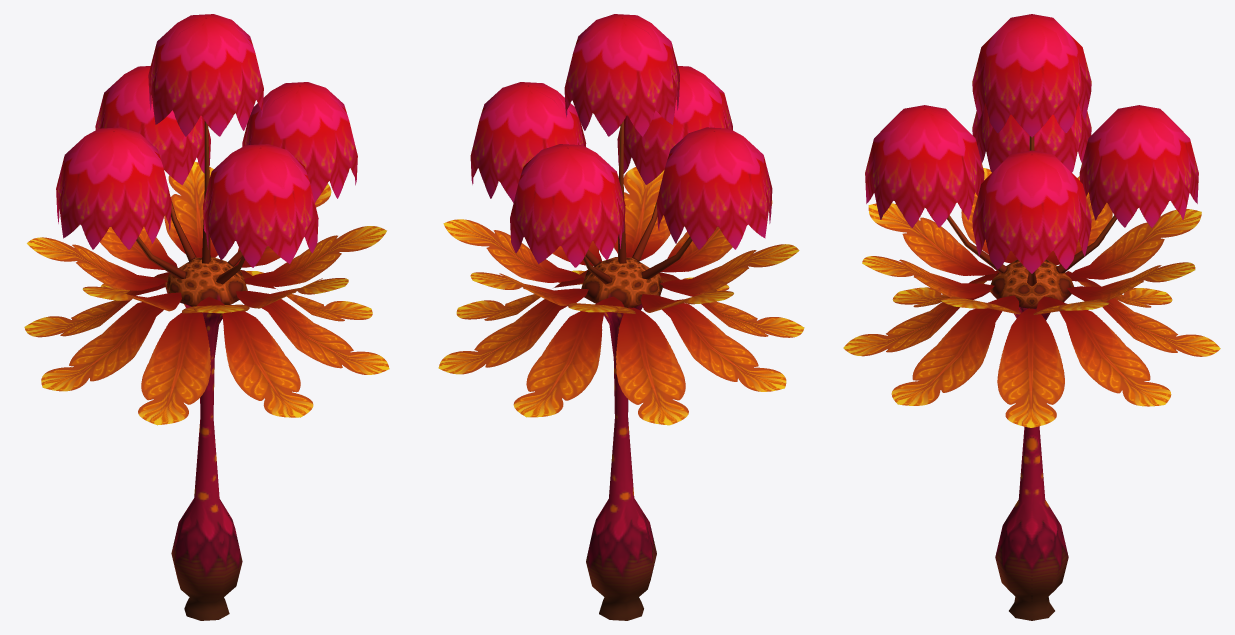
Rendered from Red_Tree_03a.FBX.
3 views of the same model, side by side, from view 1: azimuth 30°, elevation 25°; view 2: azimuth 150°, elevation 25°; view 3: azimuth 270°, elevation 25° (orthographic).
Visible parts, largest first — view 1: Red_Tree_03a; view 2: Red_Tree_03a; view 3: Red_Tree_03a.
Boxes of the visible parts, x1,y1,x2,y2 form: Red_Tree_03a: (24, 14, 389, 620); Red_Tree_03a: (438, 14, 804, 620); Red_Tree_03a: (843, 14, 1220, 620).
Size of the model in its own units: 239 by 414 by 239.
